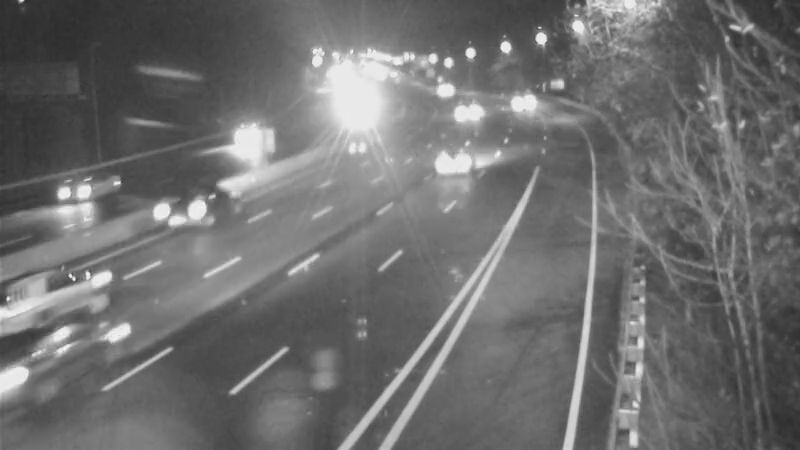vehicle: (1, 247, 100, 357), (1, 320, 95, 430), (410, 121, 490, 201), (158, 156, 238, 236), (34, 155, 114, 235), (417, 66, 467, 116), (490, 76, 540, 126), (434, 90, 484, 140), (218, 107, 268, 157)
